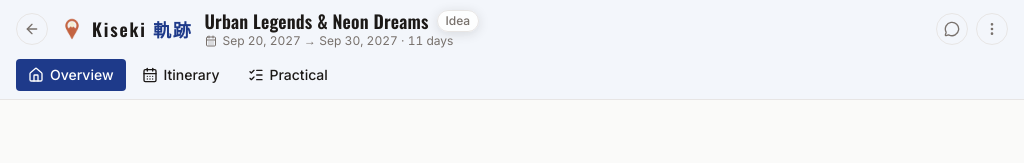
it: TripLayout › a signed-in reader with no role on a public trip can follow it (#423)
This screenshot has width=1024, height=163.
Click the button named "Trip actions" at x=992, y=29, box [976, 13, 1008, 45]
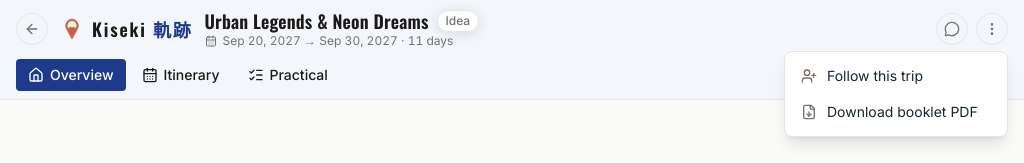
Check: the menu item "Follow this trip" is enabled, box [791, 58, 1001, 94]
Check: the text "Download booklet PDF" is shown, box [827, 102, 978, 122]
